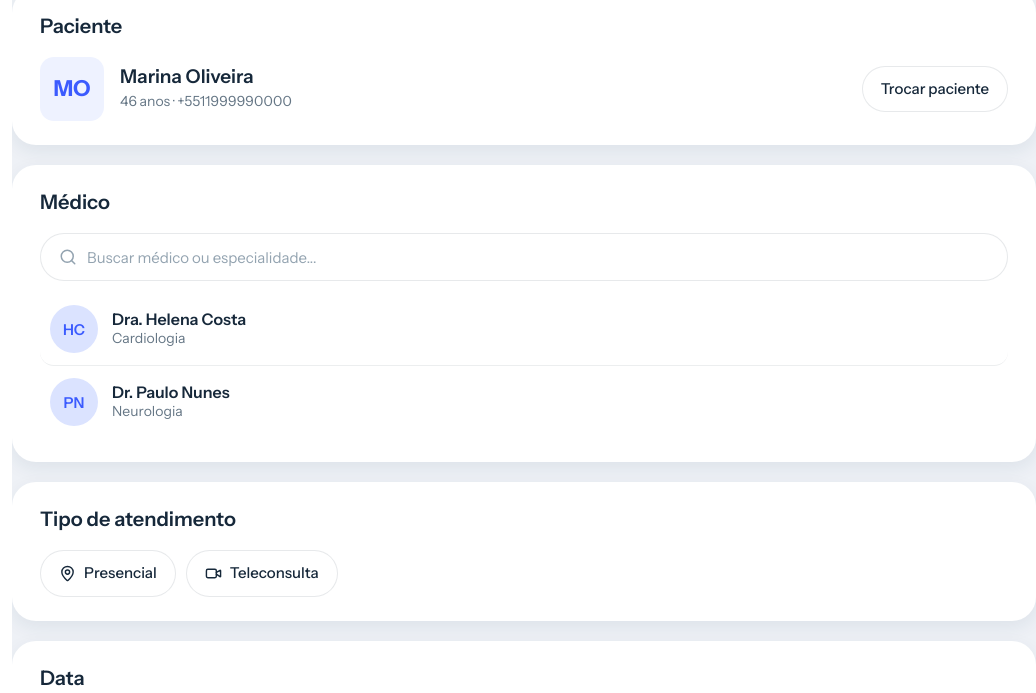
Test: conflito preserva o contexto, limpa somente o slot e atualiza a disponibilidade
Click the button "HC Dra. Helena Costa Cardiologia" at x=74, y=329, box [40,293,1008,366]
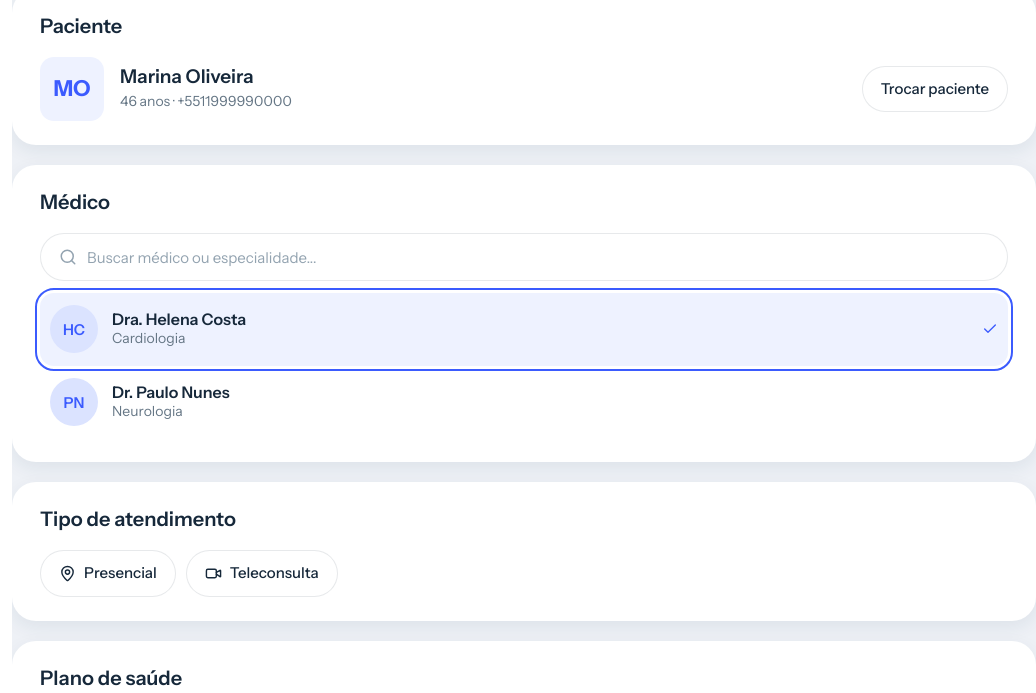
Click the button "Presencial" at x=108, y=573, box [40,550,176,596]
(page scrolled)
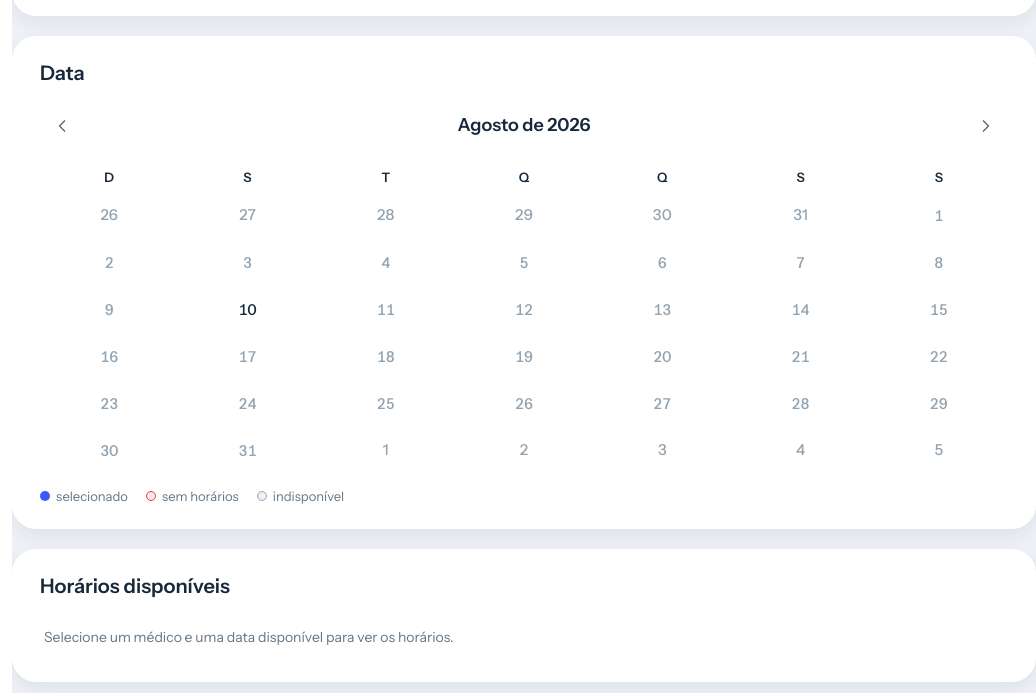
Click the button named "10 de agosto de 2026, disponível" at x=247, y=309, box [225,287,269,331]
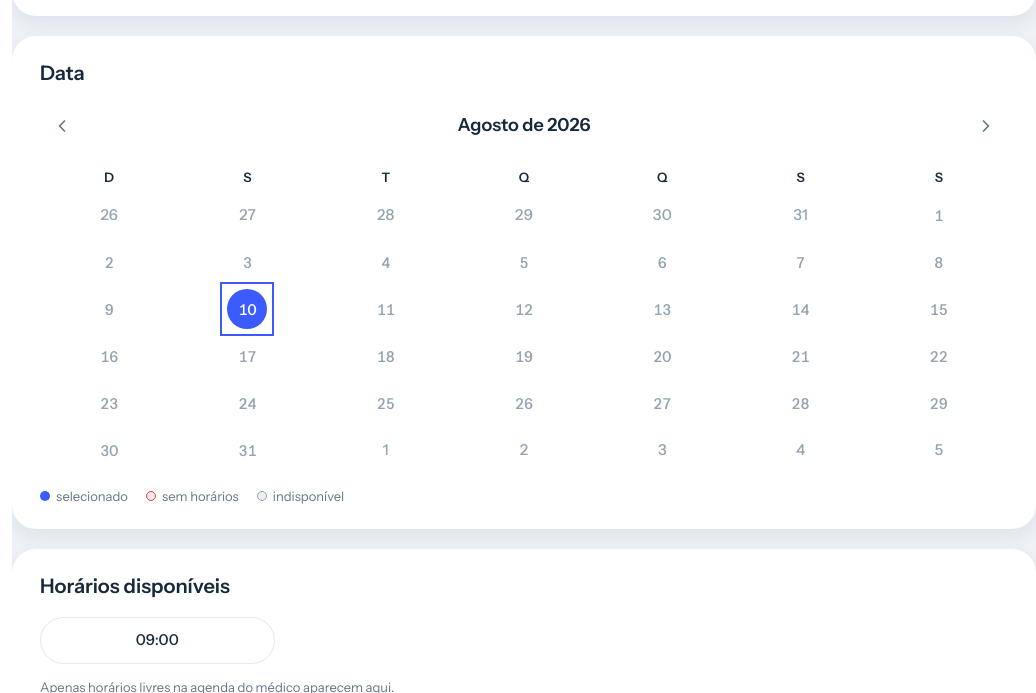
Click the button "09:00" at x=157, y=640, box [40,617,274,664]
(page scrolled)
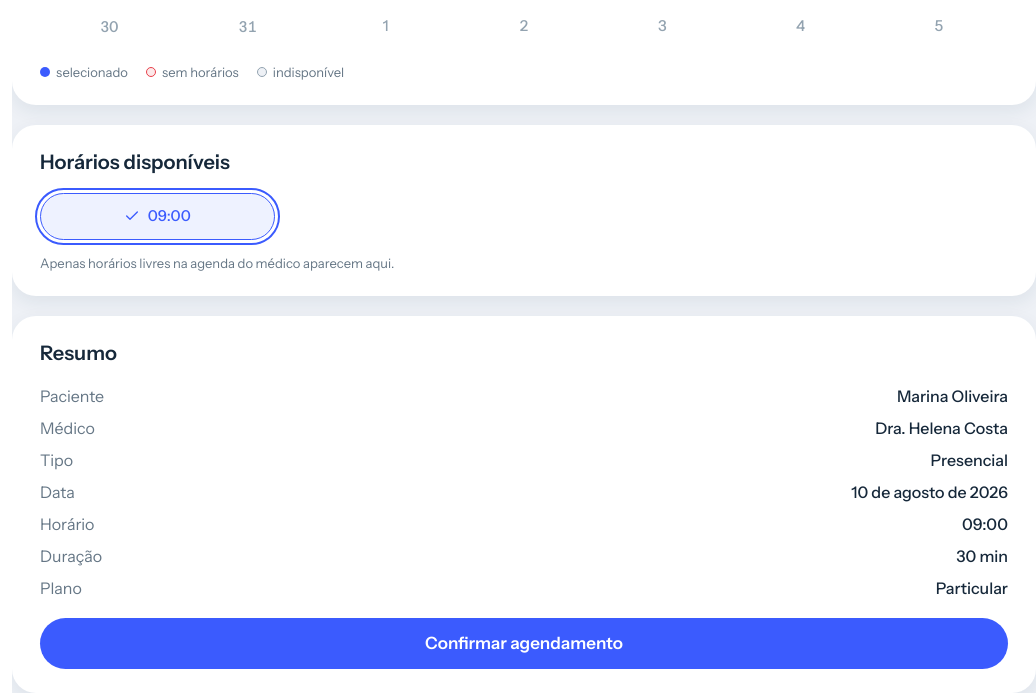
Click the button "Confirmar agendamento" at x=524, y=643, box [40,618,1008,669]
(page scrolled)
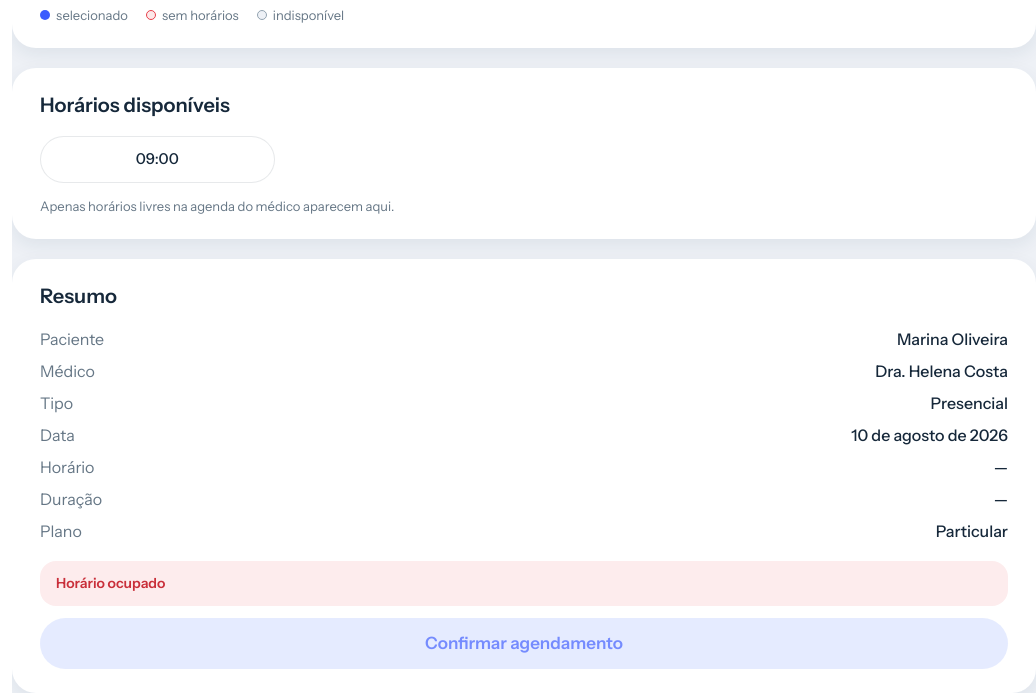
Expected: the message reads "Horário ocupado", [56,574,165,592]
Expected: the button "Confirmar agendamento" is disabled, [40,618,1008,669]
